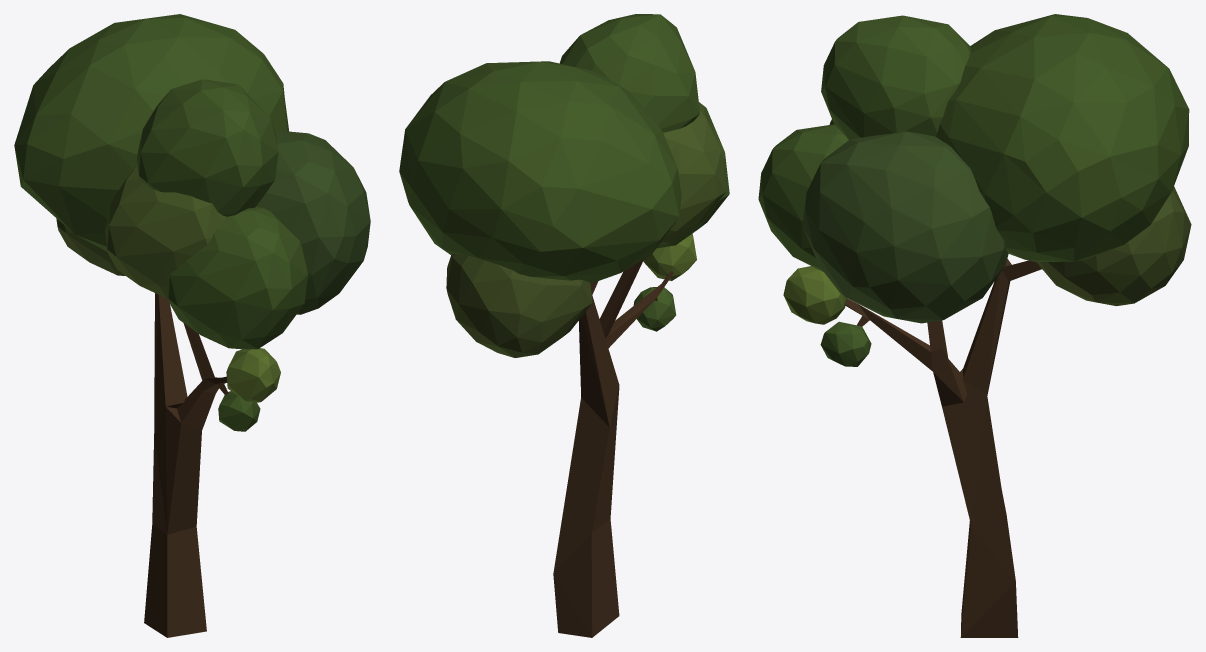
File: tree1.fbx
3 renders of one model, left to right at view 1: azimuth 30°, elevation 25°; view 2: azimuth 150°, elevation 25°; view 3: azimuth 270°, elevation 25°, orthographic. The views are drawn at different scales.
Visible parts, largest first — view 1: Tree1; view 2: Tree1; view 3: Tree1.
Part boxes in pixels (bbox=[...]): Tree1: bbox=[14, 14, 370, 637]; Tree1: bbox=[399, 14, 729, 637]; Tree1: bbox=[758, 14, 1191, 637].
Size of the model in its own units: 1480 by 2970 by 1918.
